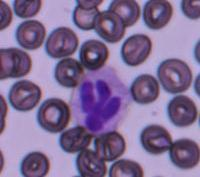N: (69, 66, 132, 136)
